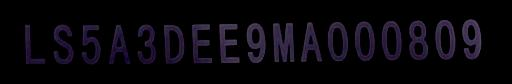letter: (20, 19, 48, 67), (105, 21, 133, 67), (459, 14, 485, 63), (160, 21, 188, 66), (188, 19, 214, 67), (298, 19, 326, 63), (432, 16, 458, 63), (50, 21, 76, 68), (270, 18, 296, 64), (216, 19, 242, 65), (352, 18, 378, 63), (133, 21, 159, 66), (378, 18, 404, 62), (324, 19, 350, 63), (406, 16, 430, 62), (78, 21, 102, 67), (244, 20, 268, 64)
